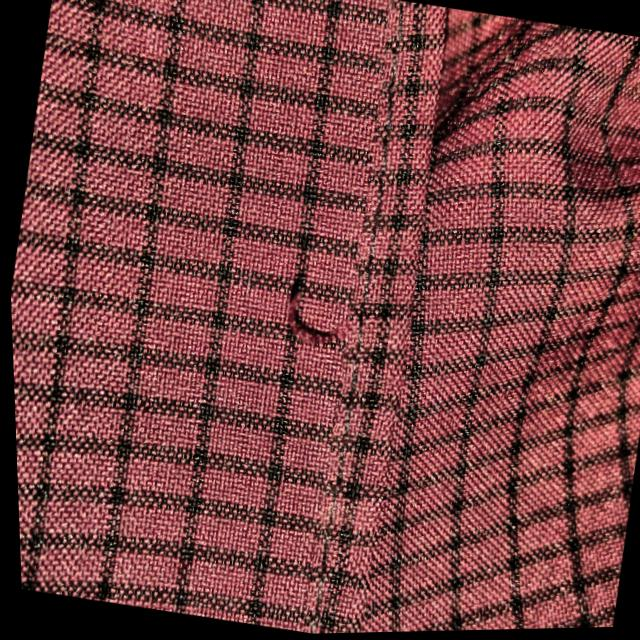Stitch: (245, 249, 386, 400)
